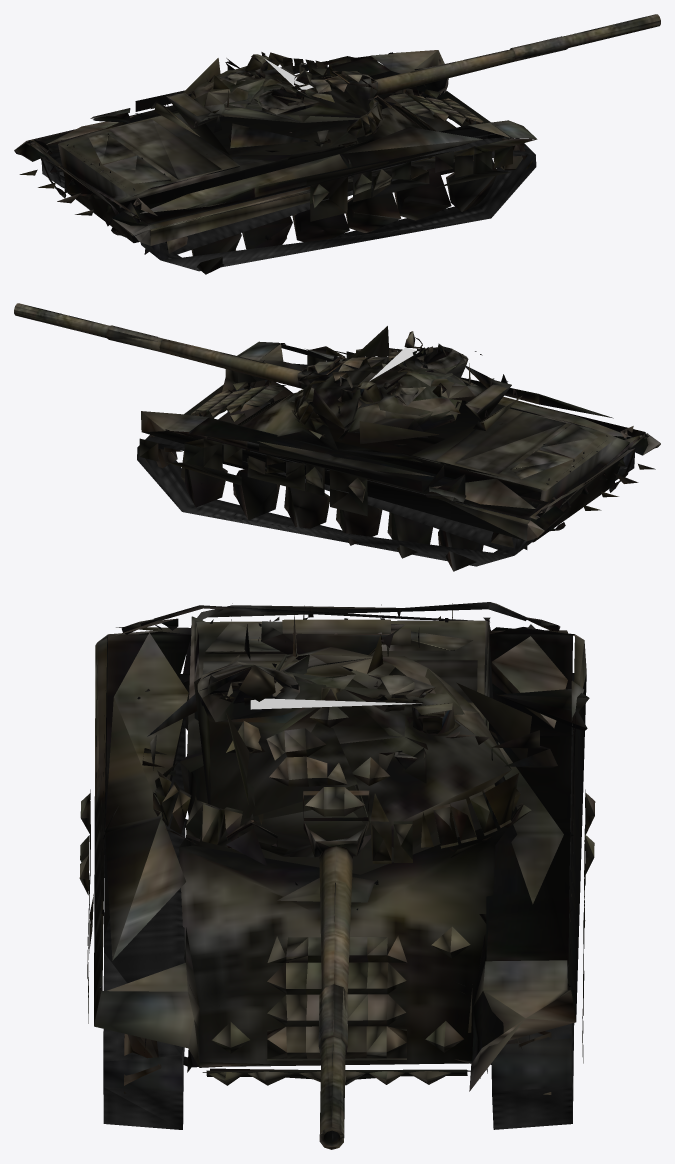
The picture shows the model from 3 angles, top to bottom: view 1: azimuth 30°, elevation 25°; view 2: azimuth 150°, elevation 25°; view 3: azimuth 270°, elevation 25°; orthographic projection. The views are drawn at different scales.
Parts seen in each view (by area): view 1: g_t72_hull, g_t72_turret, g_t72_gun; view 2: g_t72_hull, g_t72_turret, g_t72_gun; view 3: g_t72_hull, g_t72_turret, g_t72_gun.
Boxes of the visible parts, x1,y1,x2,y2 form: g_t72_hull: (14, 50, 537, 274); g_t72_turret: (183, 52, 395, 152); g_t72_gun: (371, 14, 660, 96); g_t72_hull: (137, 341, 660, 571); g_t72_turret: (292, 326, 494, 452); g_t72_gun: (14, 303, 306, 388); g_t72_hull: (79, 602, 595, 1129); g_t72_turret: (142, 615, 557, 866); g_t72_gun: (318, 846, 352, 1149).
Size of the model in its own units: 9.52 by 2.37 by 3.49.
Materials: 4 (3 with a texture image).
